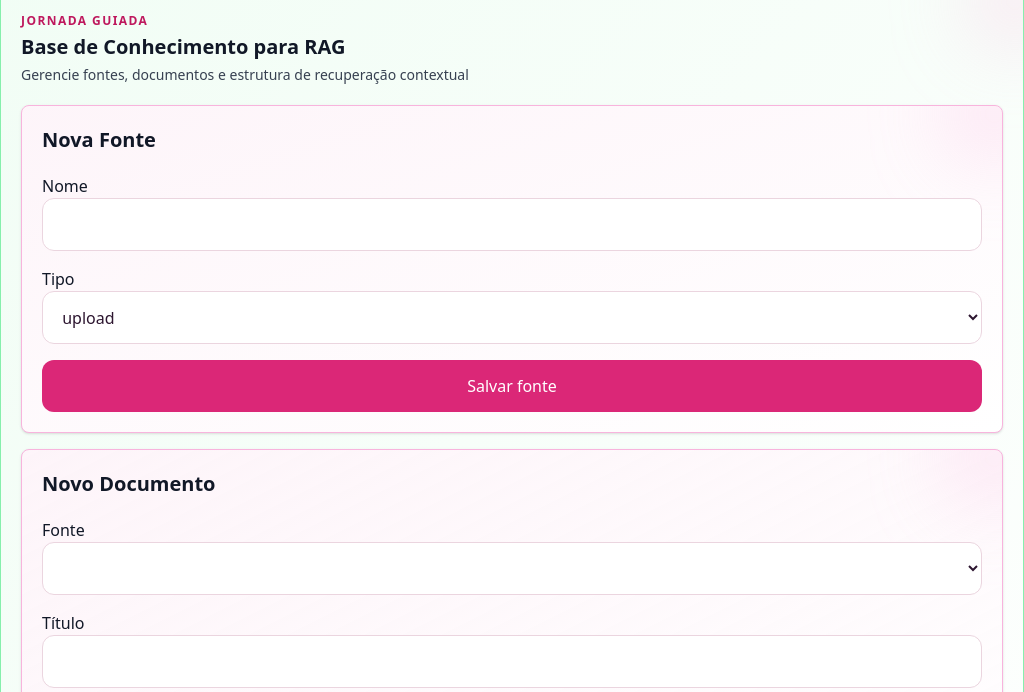
Test: KnowledgePage › mostra erro quando criação de documento falha
The image size is (1024, 692).
Step 1. Type "Doc erro" into the field labelled "Título" → (512, 661), box [42,635,982,688]
(page scrolled)
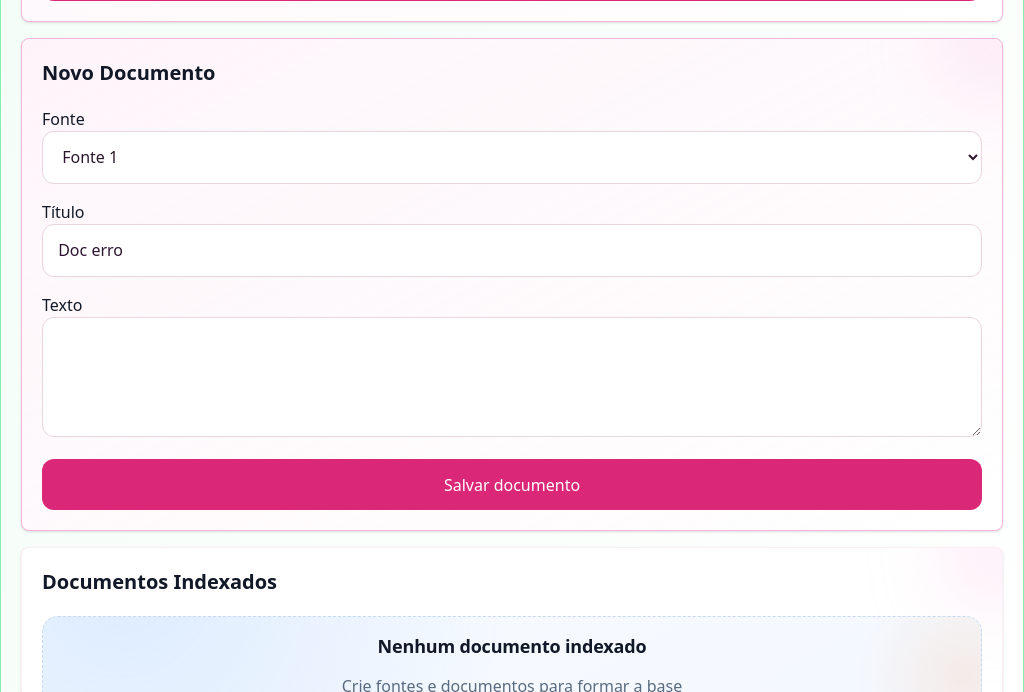
Step 2. Type "Texto erro" into the text box labelled "Texto" → (512, 377), box [42,317,982,437]
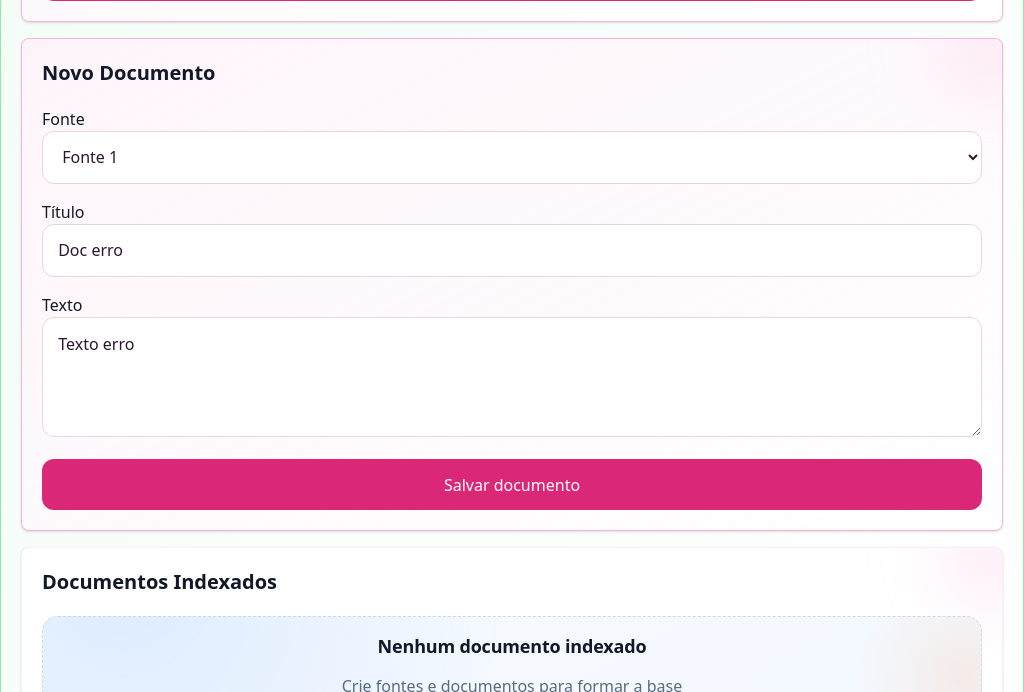
Step 3. Click the button "Salvar documento" → (512, 484), box [42,459,982,510]
(page scrolled)
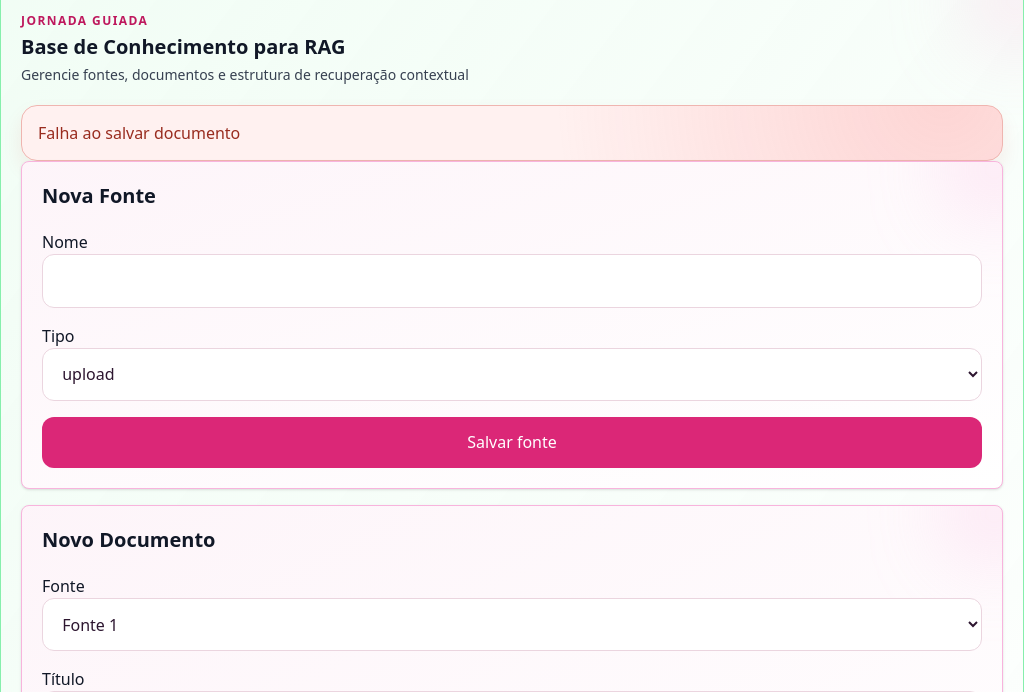
Result: the text "Falha ao salvar documento" is shown at [21,105,1003,161]
